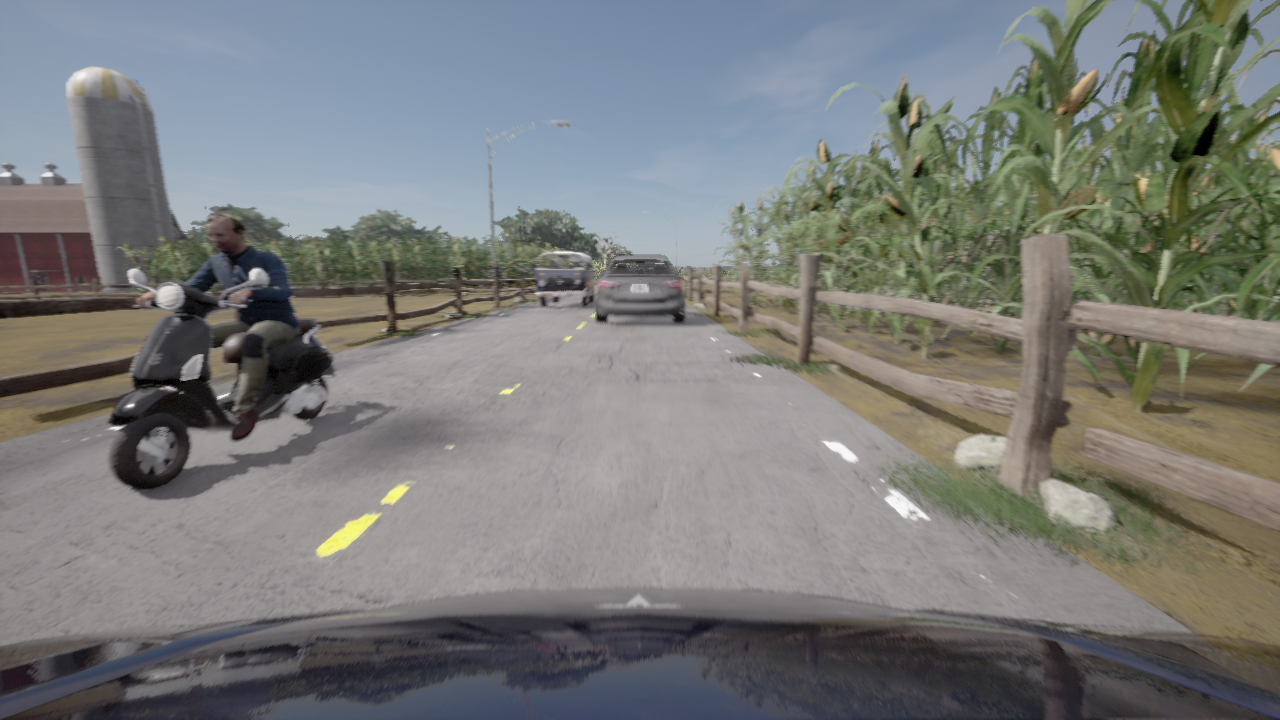cyclist: (0, 588, 1279, 719), (108, 268, 335, 489), (595, 255, 684, 322), (532, 251, 595, 306), (597, 271, 604, 287)
